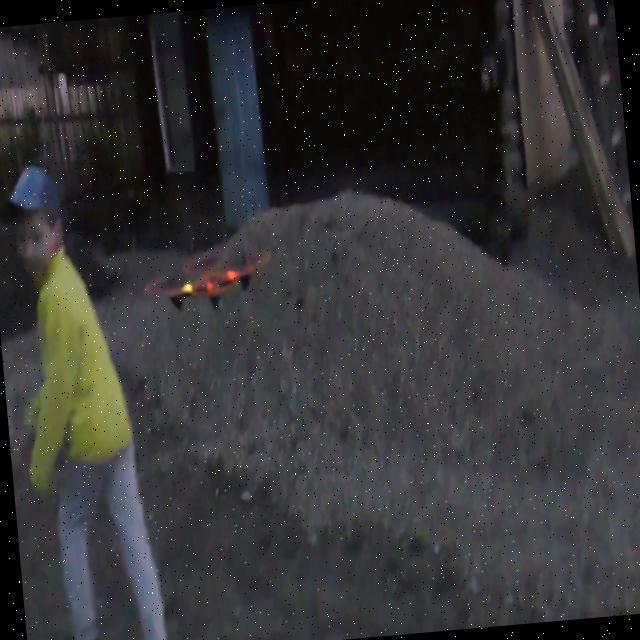Drons: (136, 238, 282, 323)
